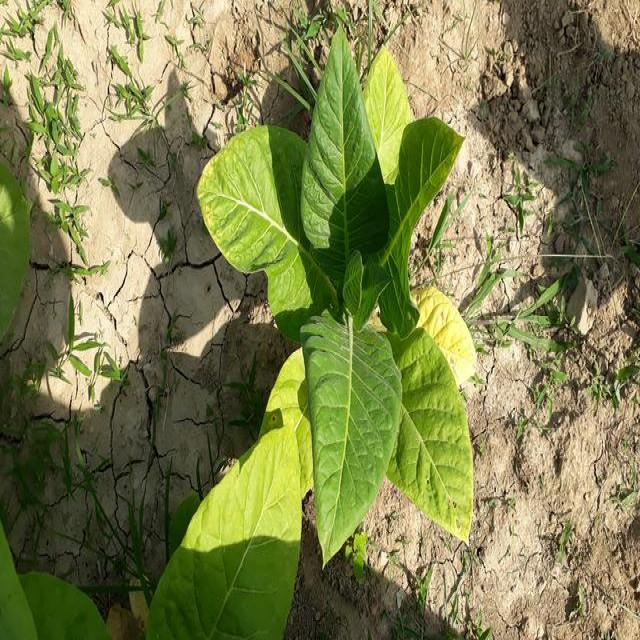crop: (196, 29, 477, 570), (0, 154, 32, 356)
